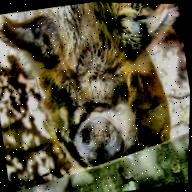boar: (0, 0, 187, 164)
